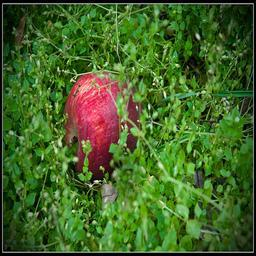apple: (63, 70, 142, 178)
